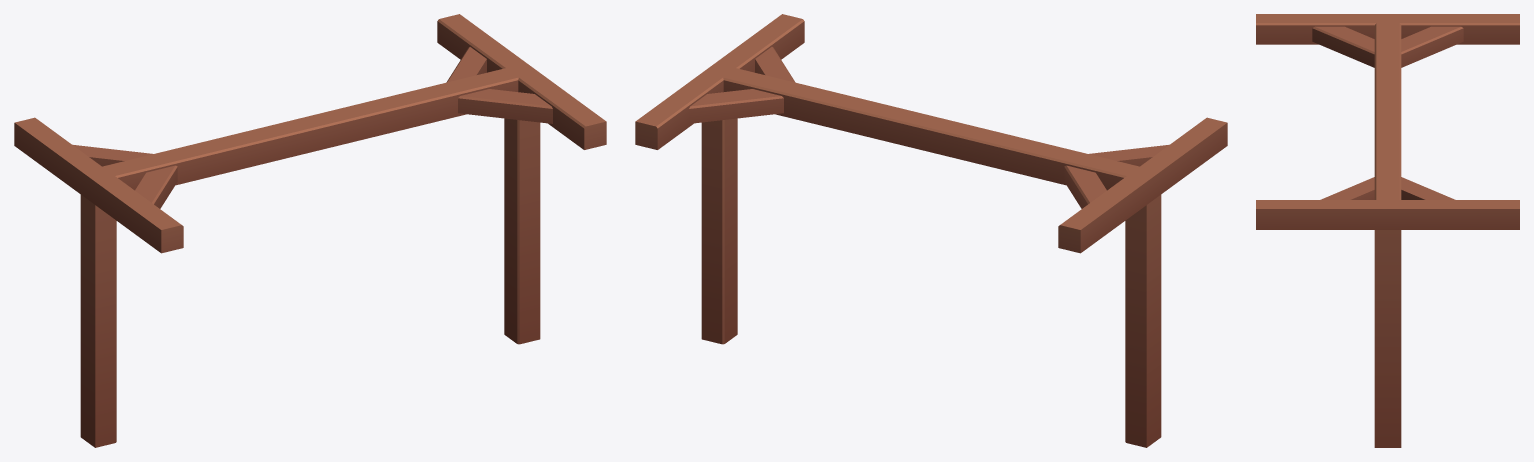
Rendered from scaffold_pillars_connected.glb.
The picture shows the model from 3 angles, left to right: view 1: azimuth 30°, elevation 25°; view 2: azimuth 150°, elevation 25°; view 3: azimuth 270°, elevation 25°; orthographic projection. The views are drawn at different scales.
Visible parts, largest first — view 1: scaffold_pillars_connected; view 2: scaffold_pillars_connected; view 3: scaffold_pillars_connected.
Part boxes in pixels (<box>): scaffold_pillars_connected: <box>14,14,606,447</box>; scaffold_pillars_connected: <box>635,14,1227,447</box>; scaffold_pillars_connected: <box>1256,14,1519,447</box>.
Bounding box in the file's own units: 7 × 4 × 4.
1 material, 1 textured.
